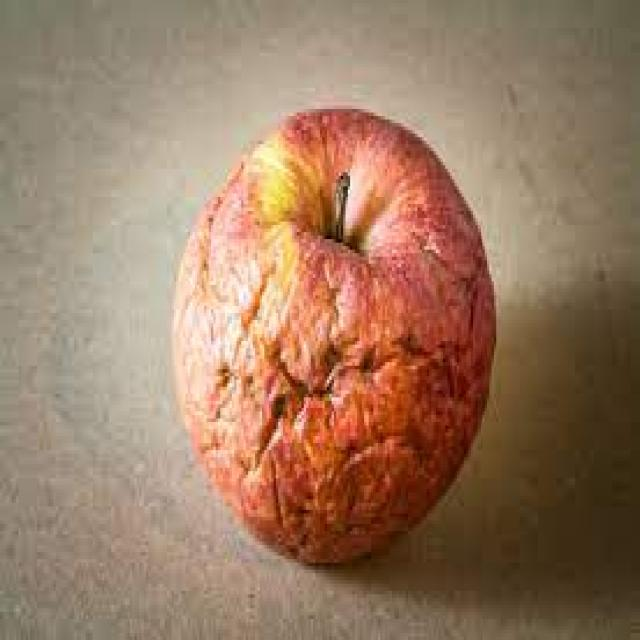overripe: (168, 104, 501, 576)
